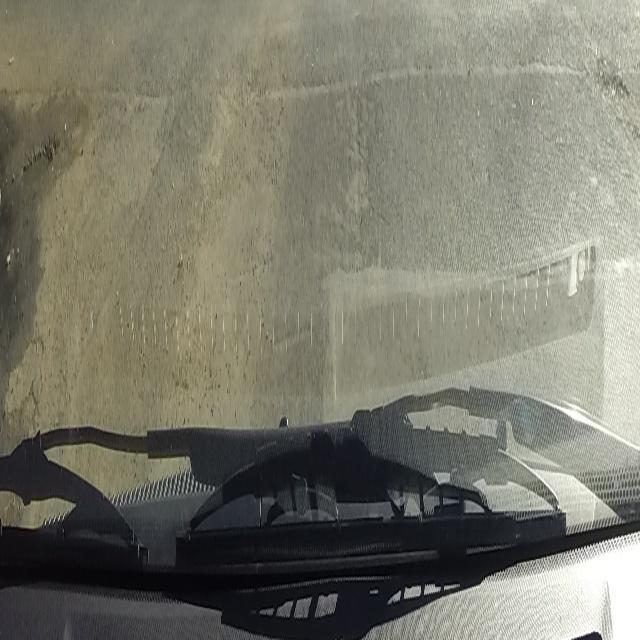pothole: (0, 138, 56, 202)
